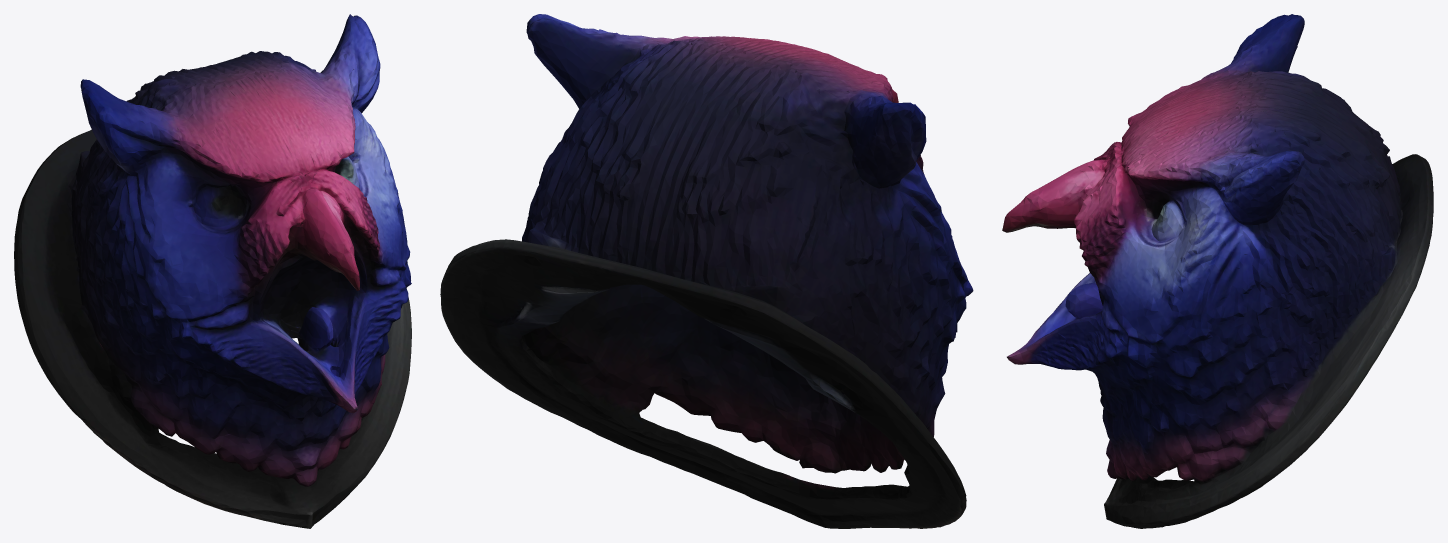
Rendered from owl.glb.
3 views of the same model, side by side, from view 1: azimuth 30°, elevation 25°; view 2: azimuth 150°, elevation 25°; view 3: azimuth 270°, elevation 25° (orthographic). The views are drawn at different scales.
Parts seen in each view (by area): view 1: world; view 2: world; view 3: world.
Part boxes in pixels (x1,y1,x2,y2): world: (14, 14, 411, 528); world: (440, 14, 973, 528); world: (1002, 14, 1433, 528).
Bounding box in the file's own units: 0.9264 × 1 × 0.9005.
1 material, 1 textured.
